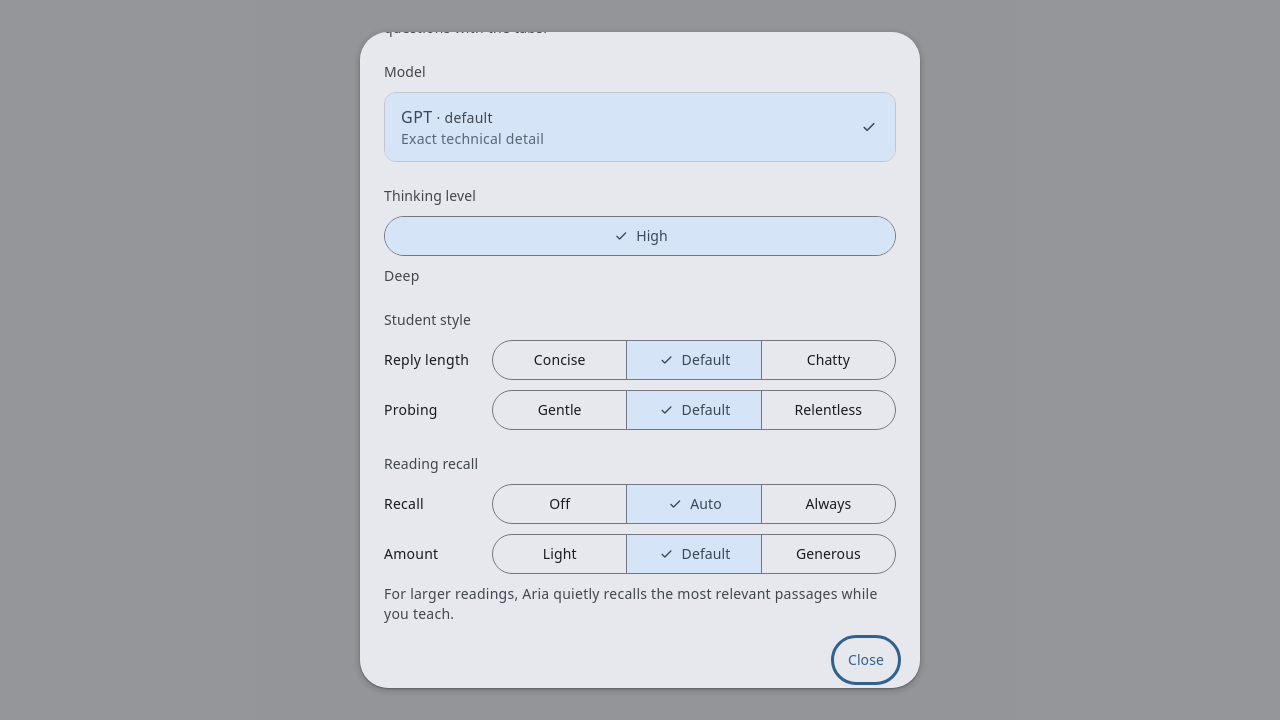
it: SettingsDialog › loads CLI status lazily and reports autosave state
(page scrolled)
expect the text "Exact technical detail" is shown: met, box [401,129,544,148]
Click the radio button labelled "Chatty" at (828, 360), box [761,341,895,379]
(page scrolled)
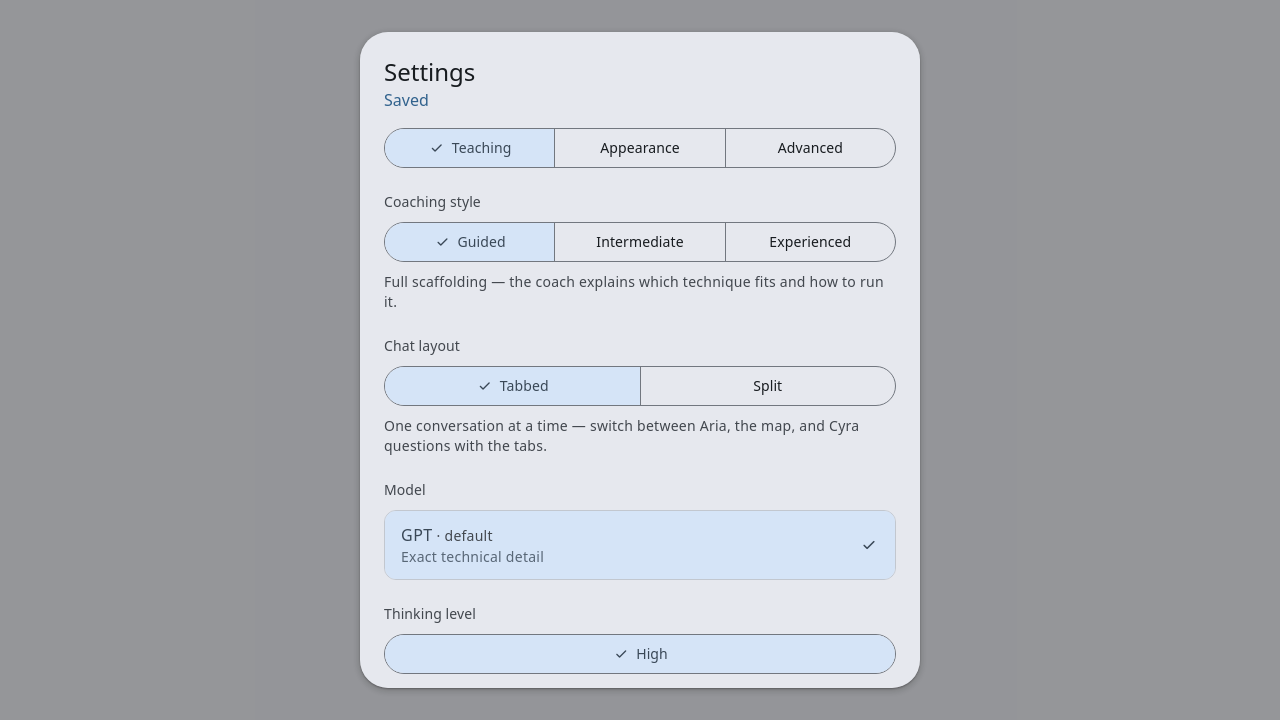
expect the text "Saved" is shown: met, box [384,89,429,111]
Click the radio button labelled "Advanced" at (810, 148), box [725,129,895,167]
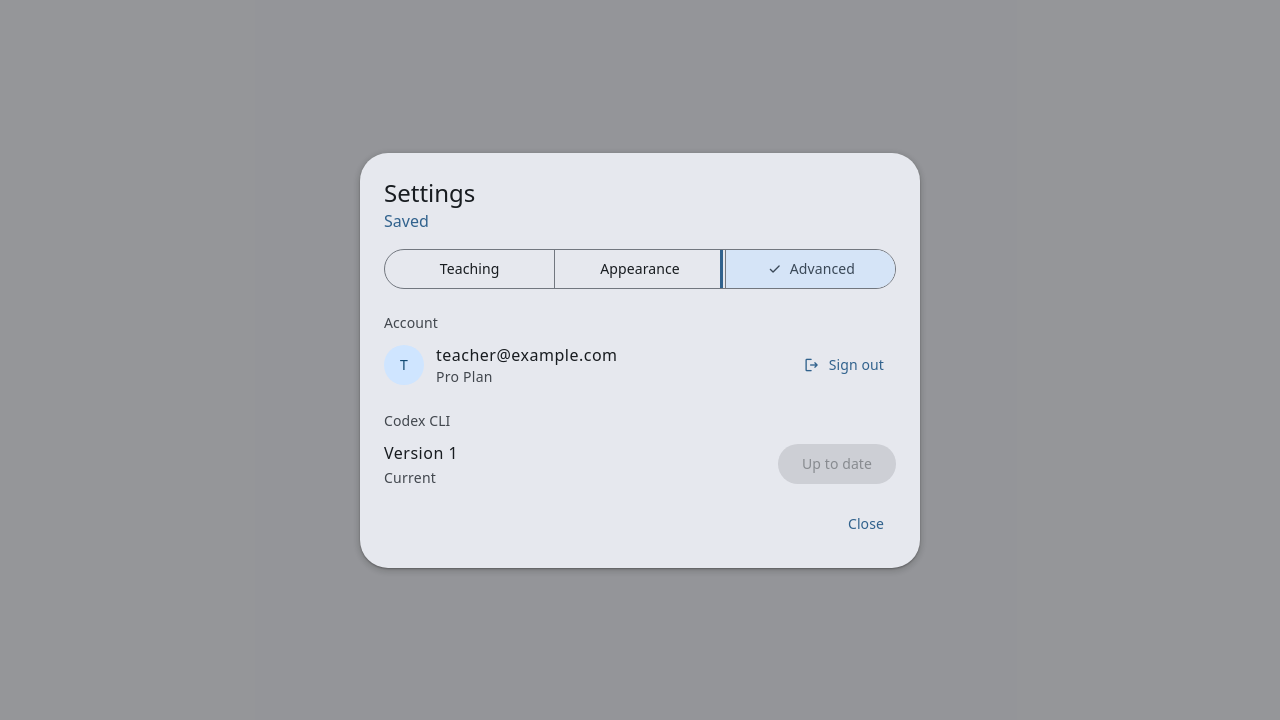
expect the button "Close" is shown: met, box [836,504,896,544]
